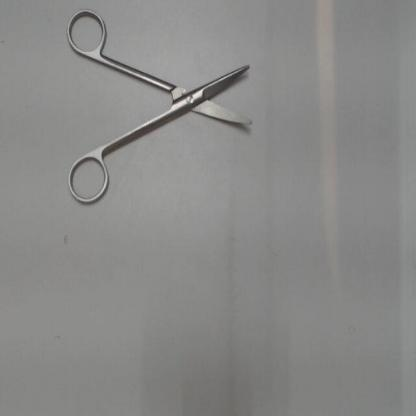Curved Mayo Scissors: (63, 1, 260, 212)
